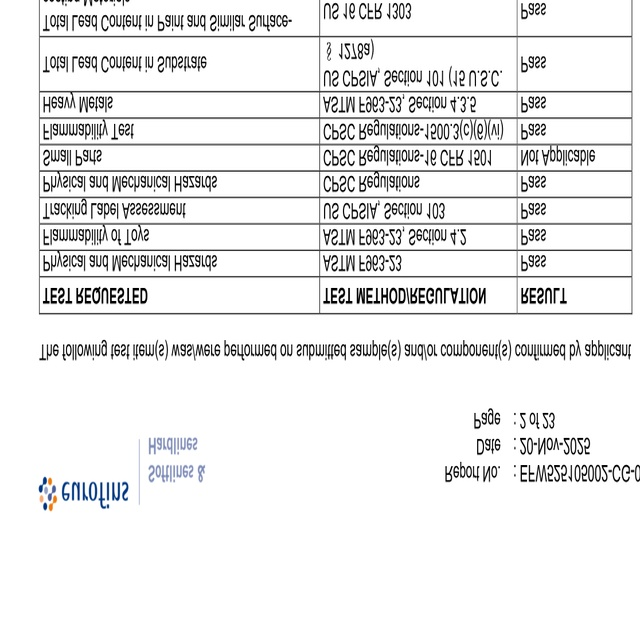eurofins: (35, 474, 133, 514)
